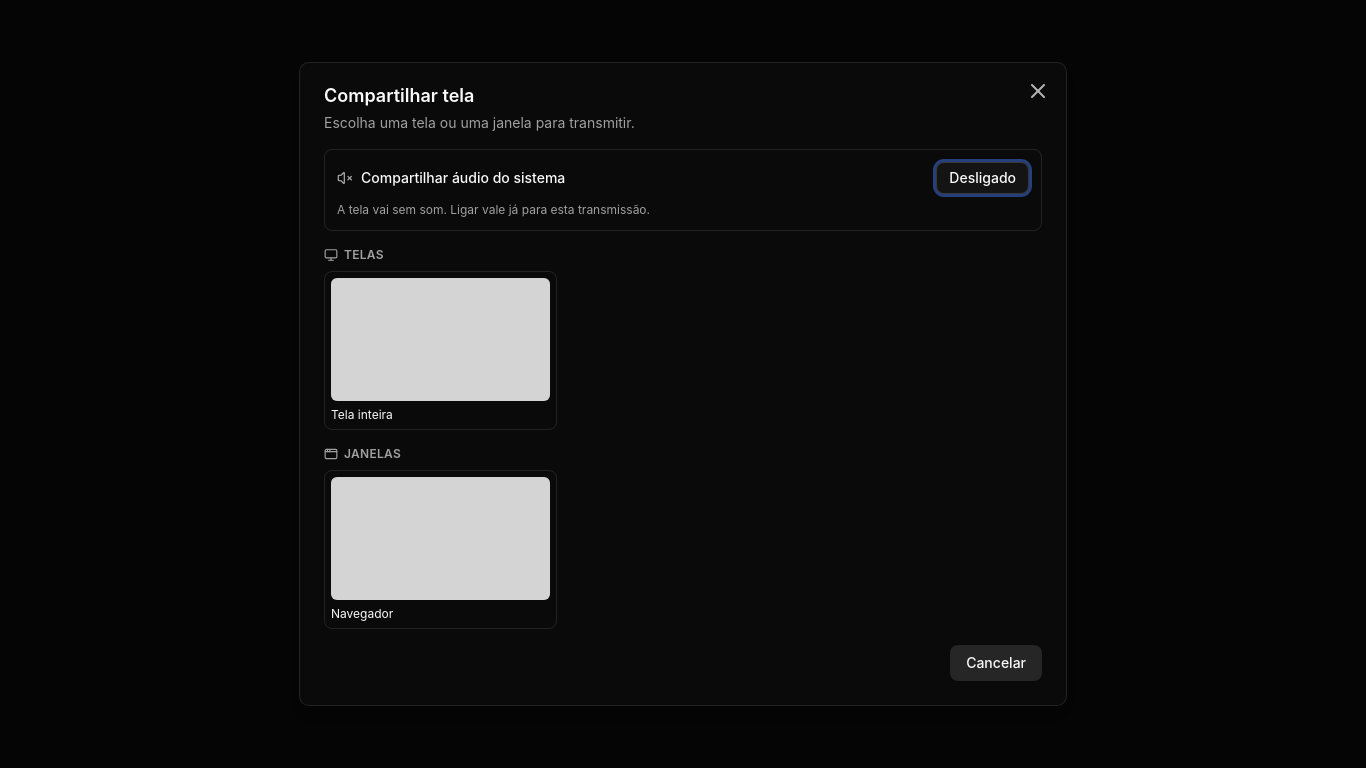
Test: ScreenSharePicker — áudio de sistema (Pitfall 1) › promete, com todas as letras, que a voz das outras pessoas fica de fora
Click the button "Desligado". click: {"x": 983, "y": 178}
box: [936, 162, 1029, 194]
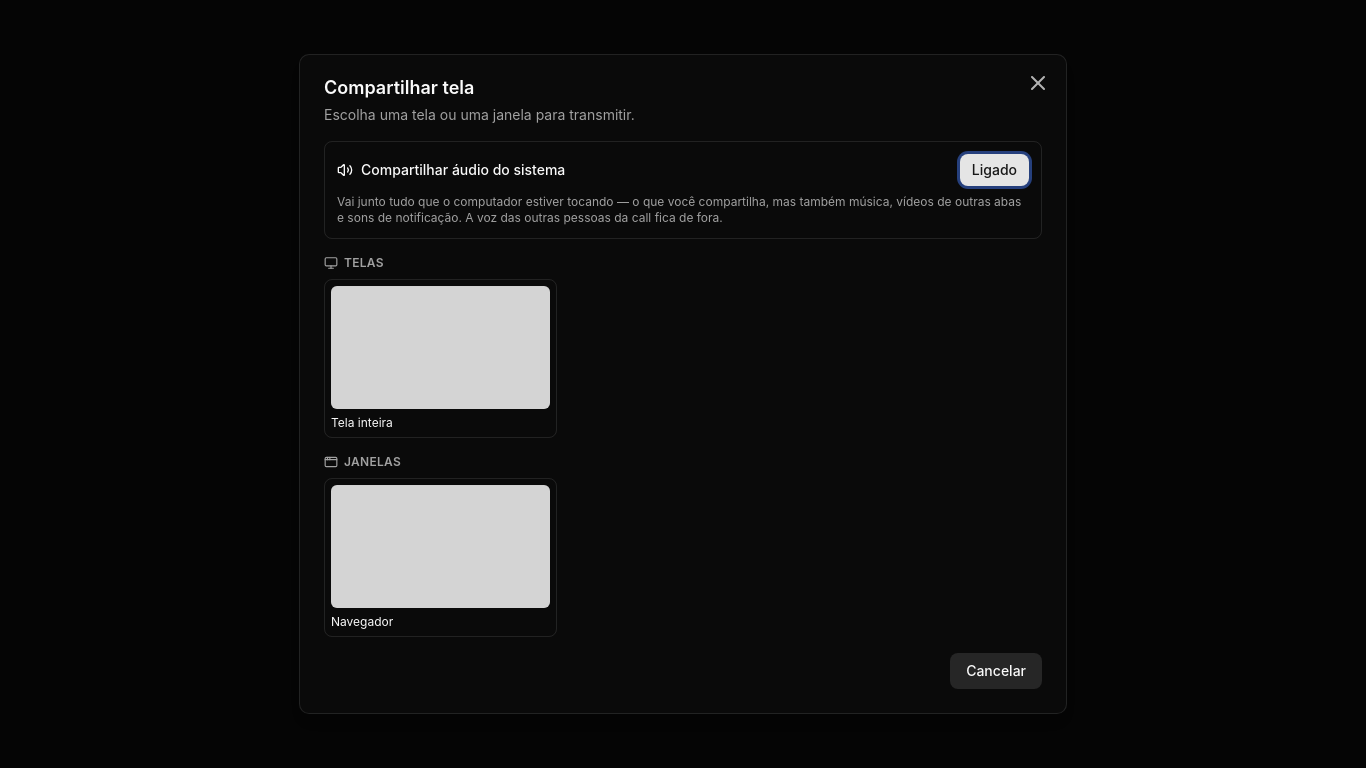
Result: the text "música, vídeos de outras abas e sons de notificação" is shown at [337, 194, 1021, 225]
